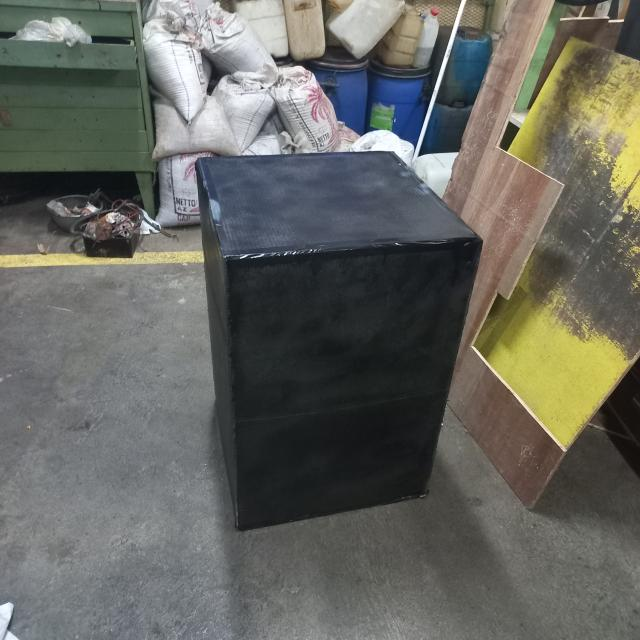obstacle: (195, 150, 485, 534)
